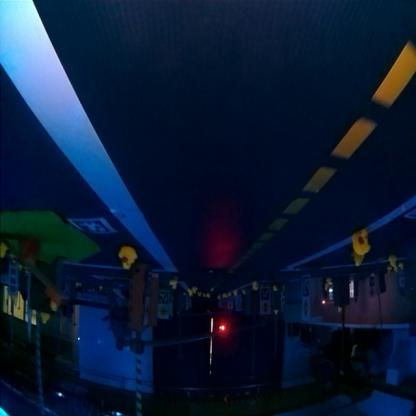Duckie: (352, 232, 370, 256), (120, 247, 136, 270), (390, 257, 396, 267), (254, 283, 260, 290), (172, 284, 178, 288)
QR code: (70, 217, 114, 235)
Traffic light: (220, 324, 227, 334)
